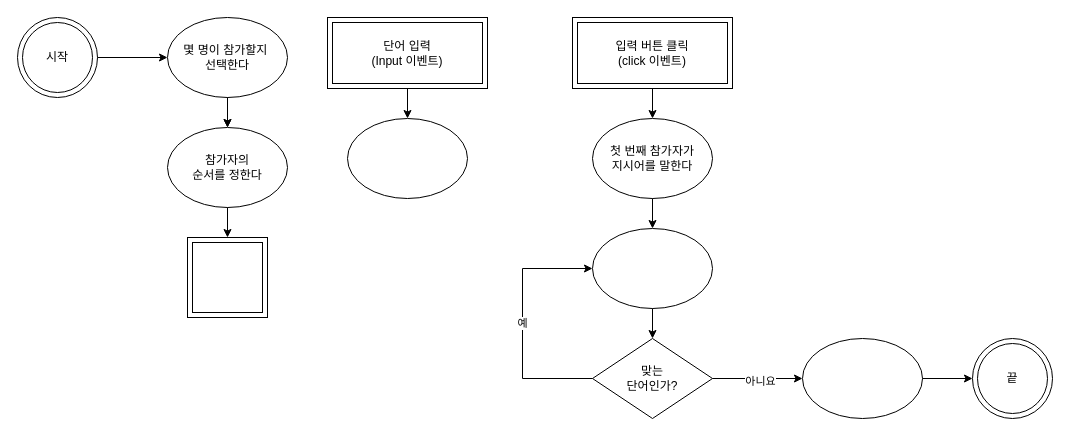
Some shapes in this 1070 by 436 pixel diagram are drawn without their labels. The shapes that lost their labels are listed below. From the top down, each one's centre as x and y in pixels, then its label:
At [407,158]: "입력한 단어를 저장한다".
At [227,277]: "대기".
At [652,268]: "다음 참가자가 단어를 말한다".
At [862,378]: "틀렸다고 표시한다".
